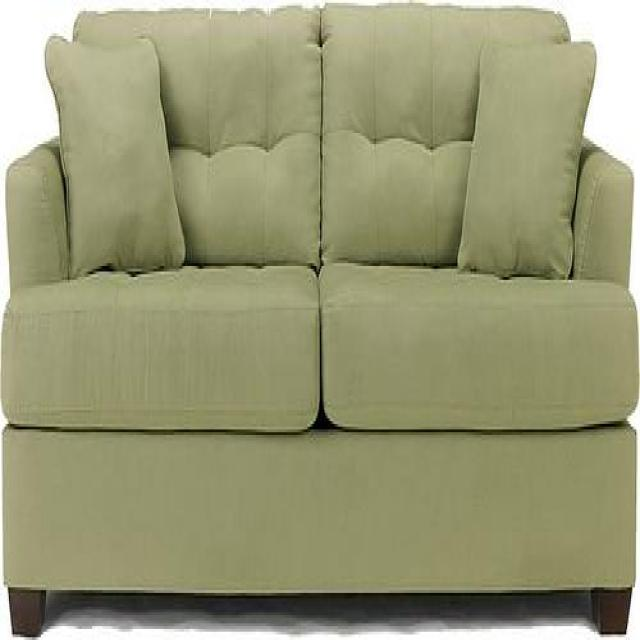sofa: (1, 0, 637, 634)
